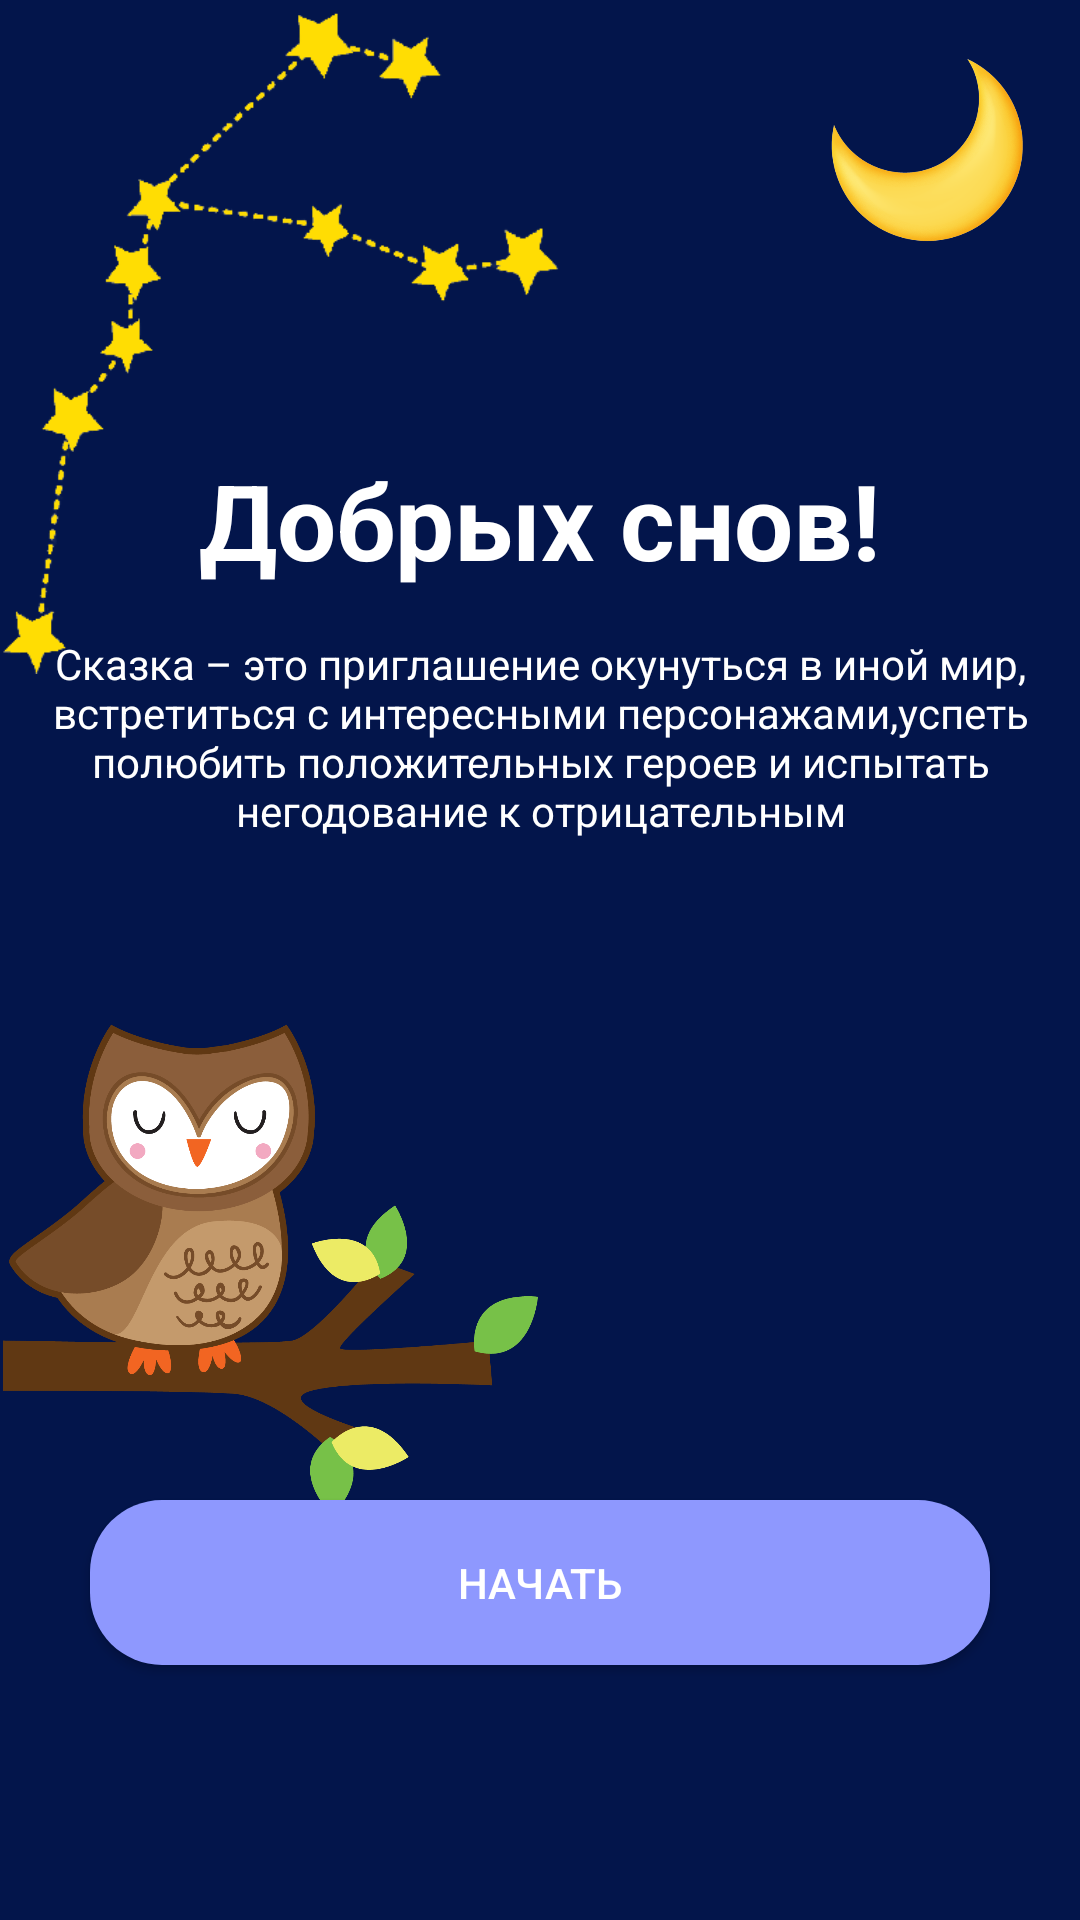

Icon click points for this 1080w x 1920h phone screenshot, format [x,y]:
moon: [927,150]
